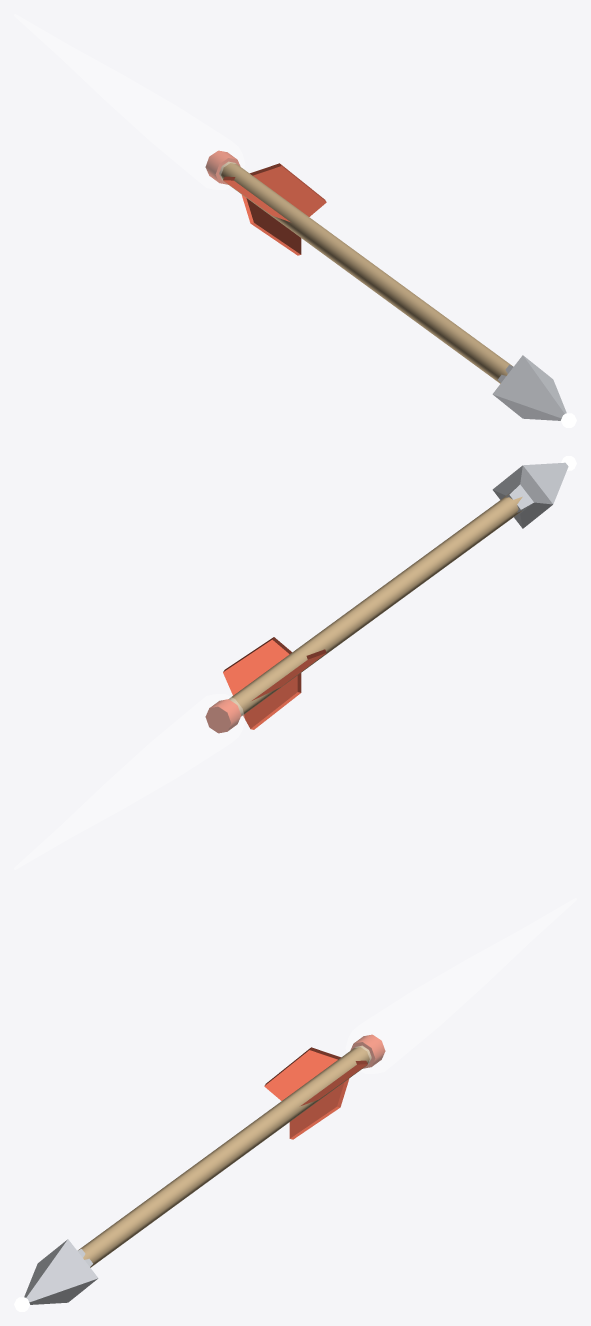
Rendered from arrow.glb.
3 renders of one model, top to bottom at view 1: azimuth 30°, elevation 25°; view 2: azimuth 150°, elevation 25°; view 3: azimuth 330°, elevation 25°, orthographic.
Parts seen in each view (by area): view 1: arrow, trail; view 2: arrow, trail; view 3: arrow, trail.
Part boxes in pixels (x1,y1,x2,y2): arrow: [205, 150, 576, 427]; trail: [14, 14, 244, 189]; arrow: [205, 456, 576, 733]; trail: [14, 694, 244, 869]; arrow: [14, 1034, 385, 1311]; trail: [346, 898, 576, 1073].
Bounding box in the file's own units: 0.052 × 0.054 × 0.825.
